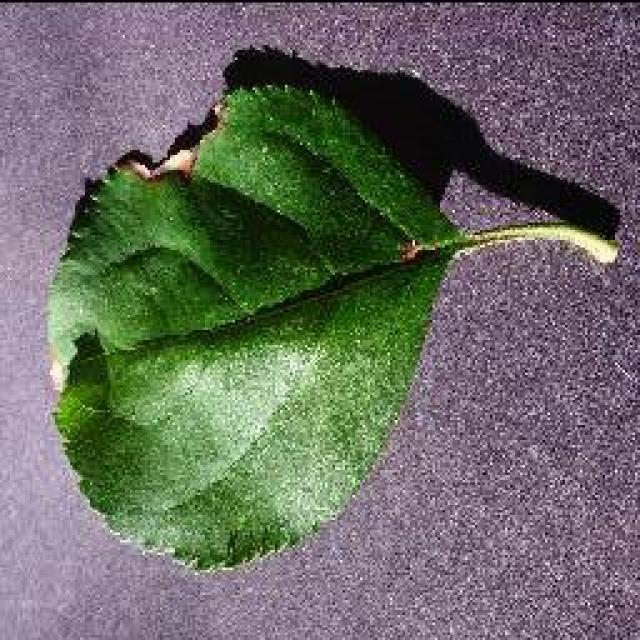apple healthy: (43, 40, 625, 575)
